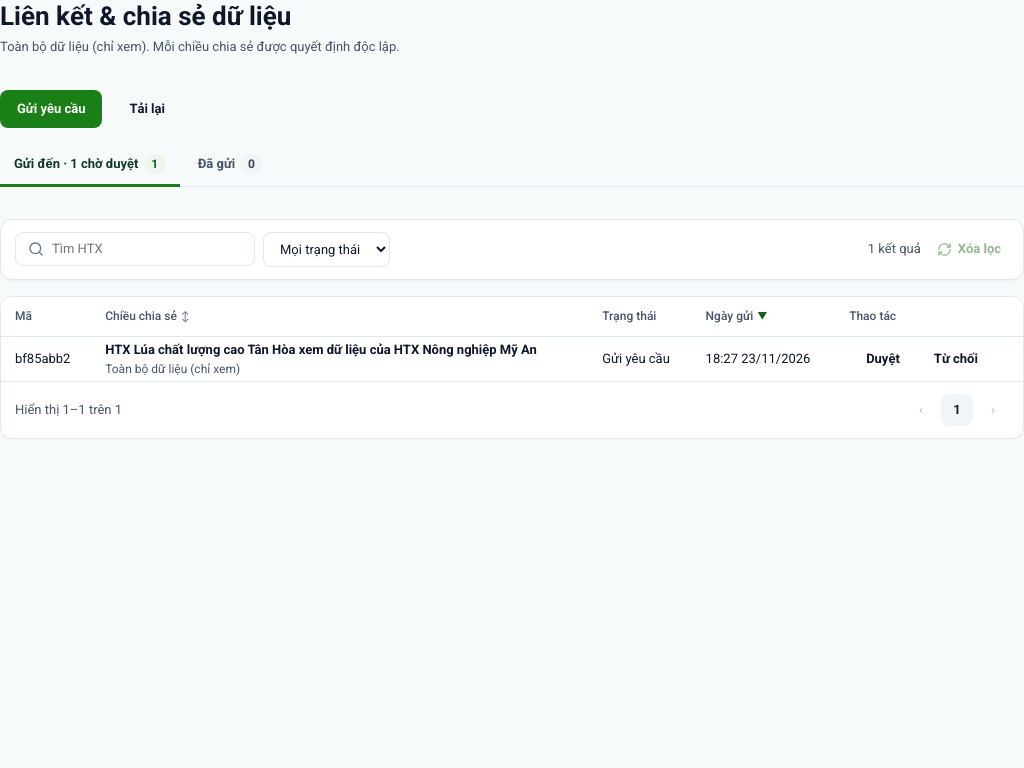
Test: [FN-09/AC-04] owner rejects; the requester may send a new request later
Click the button "Từ chối": point(956, 359) [917,340,995,378]
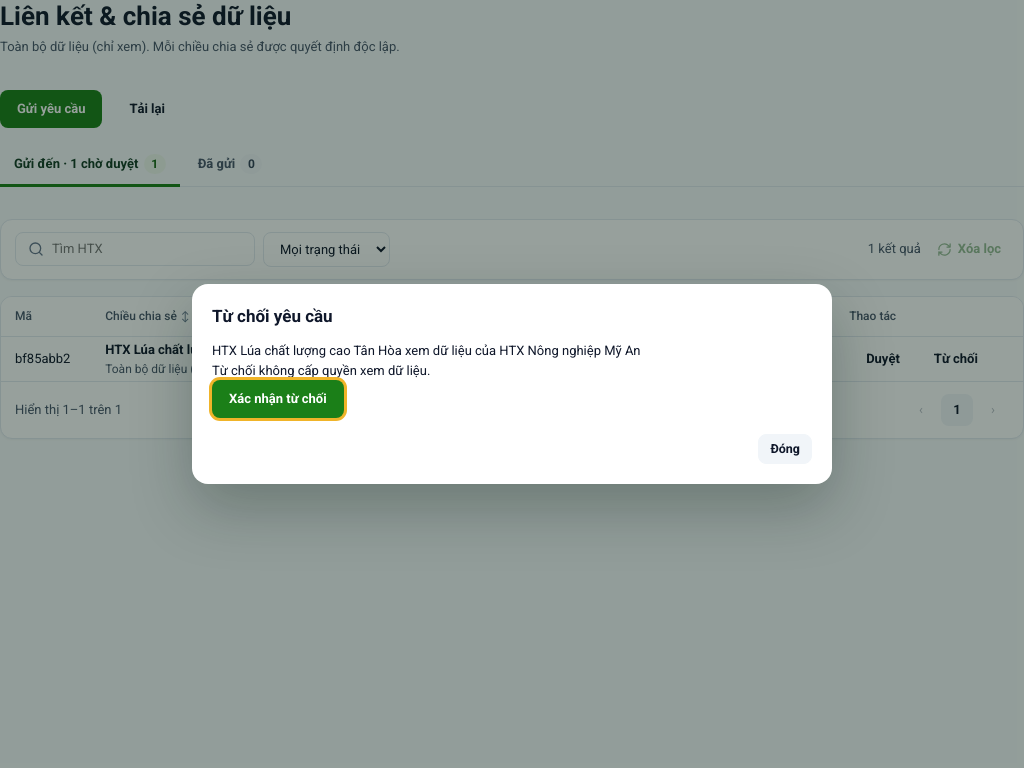
Click the button "Xác nhận từ chối": point(278, 399) [212,380,344,418]
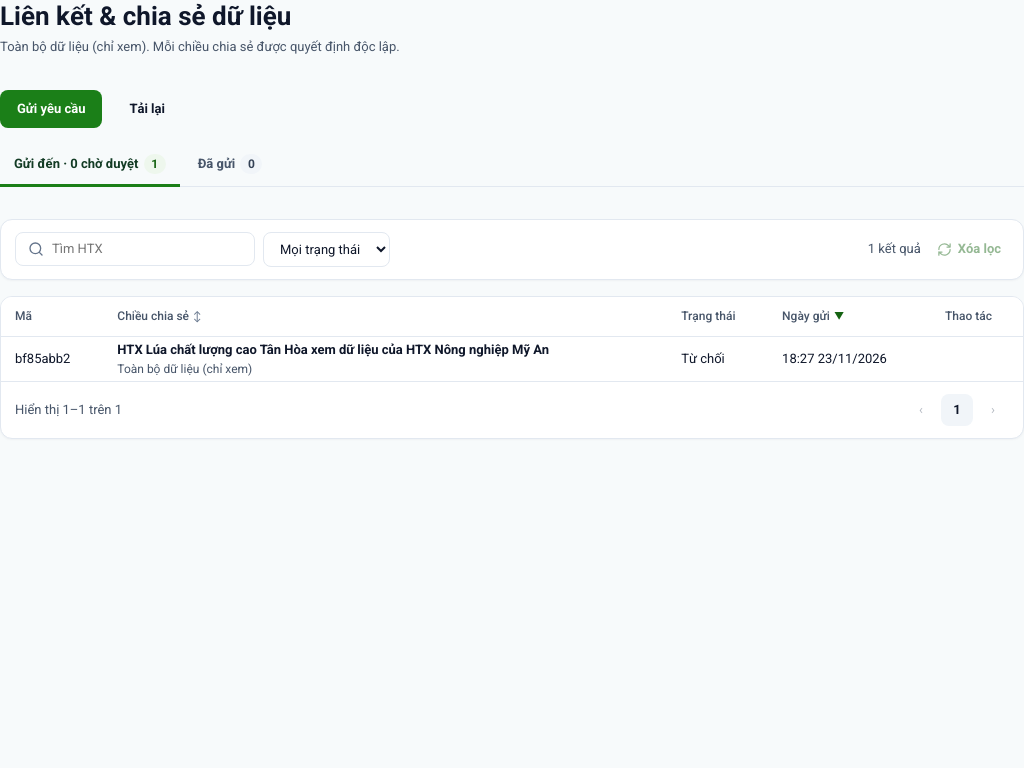
Expected: the text "Từ chối" is shown, [667,337,768,381]
